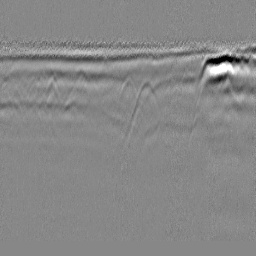cavity: (118, 73, 137, 102)
